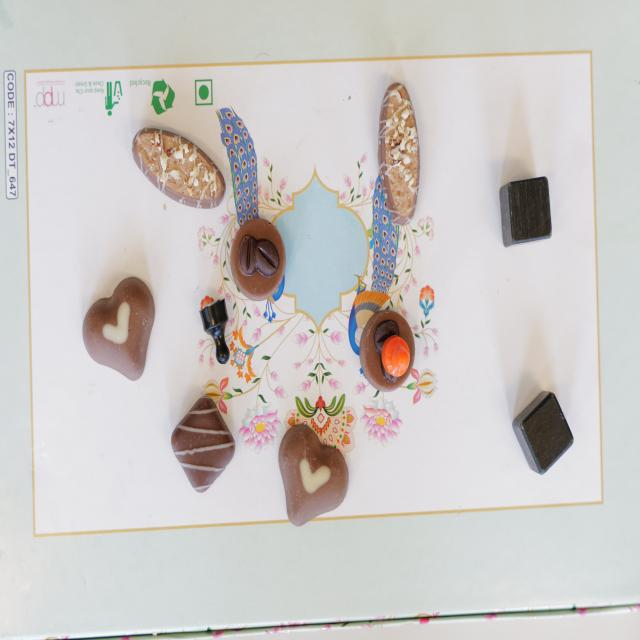Amandina: (127, 120, 231, 220), (379, 76, 422, 228)
Arabia: (353, 307, 417, 393), (229, 213, 288, 305)
Passion_au_lait: (271, 420, 352, 540), (76, 275, 159, 387)
Stracciatella: (162, 390, 237, 502)
